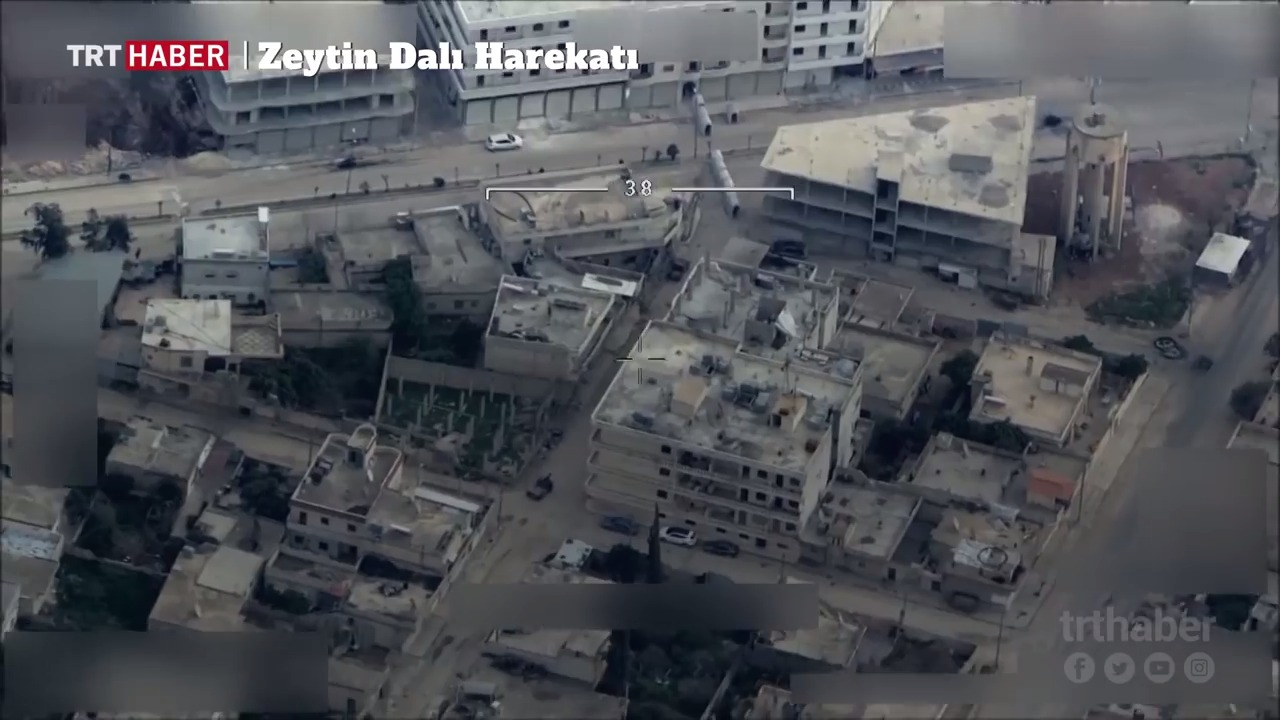arac: (700, 531, 743, 565), (483, 124, 526, 155), (604, 507, 642, 538), (523, 471, 557, 502), (659, 521, 696, 547)
bina: (579, 320, 839, 550), (135, 291, 292, 413), (1057, 92, 1142, 266)
